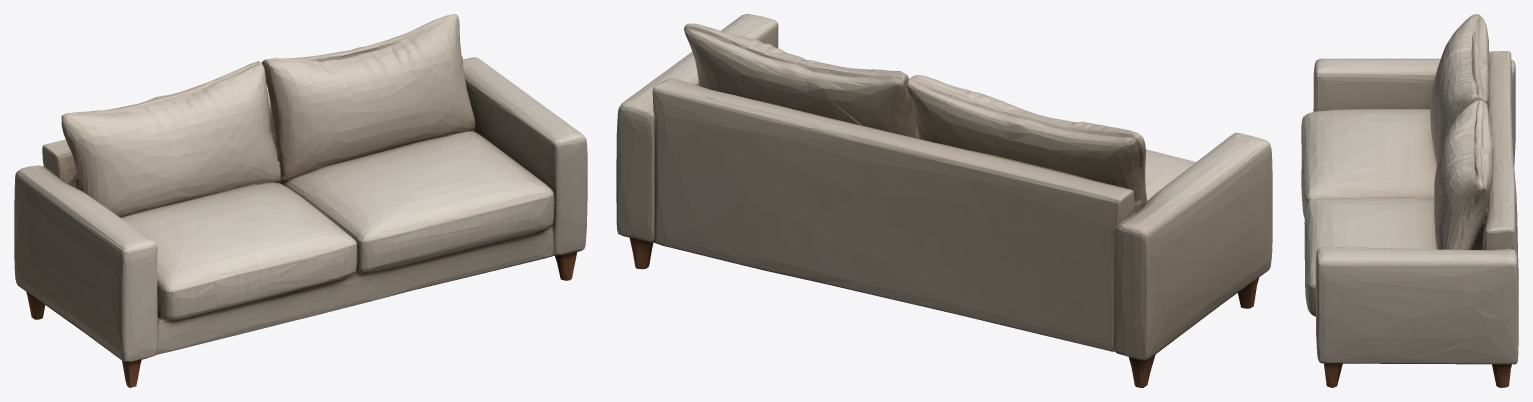
Rendered from couch.glb.
3 views of the same model, side by side, from view 1: azimuth 30°, elevation 25°; view 2: azimuth 150°, elevation 25°; view 3: azimuth 270°, elevation 25° (orthographic). The views are drawn at different scales.
Parts seen in each view (by area): view 1: geometry_0; view 2: geometry_0; view 3: geometry_0.
Boxes of the visible parts, x1,y1,x2,y2 form: geometry_0: [14, 14, 587, 387]; geometry_0: [616, 14, 1272, 387]; geometry_0: [1301, 14, 1518, 387].
Size of the model in its own units: 0.9987 by 0.4297 by 0.4437.
1 material, 1 textured.
